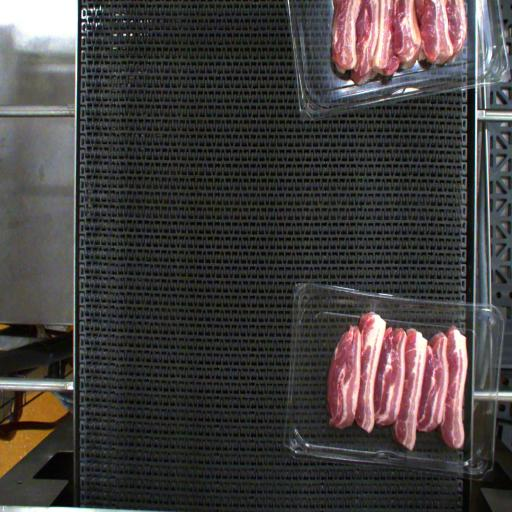packaging-error: (368, 292, 378, 314)
